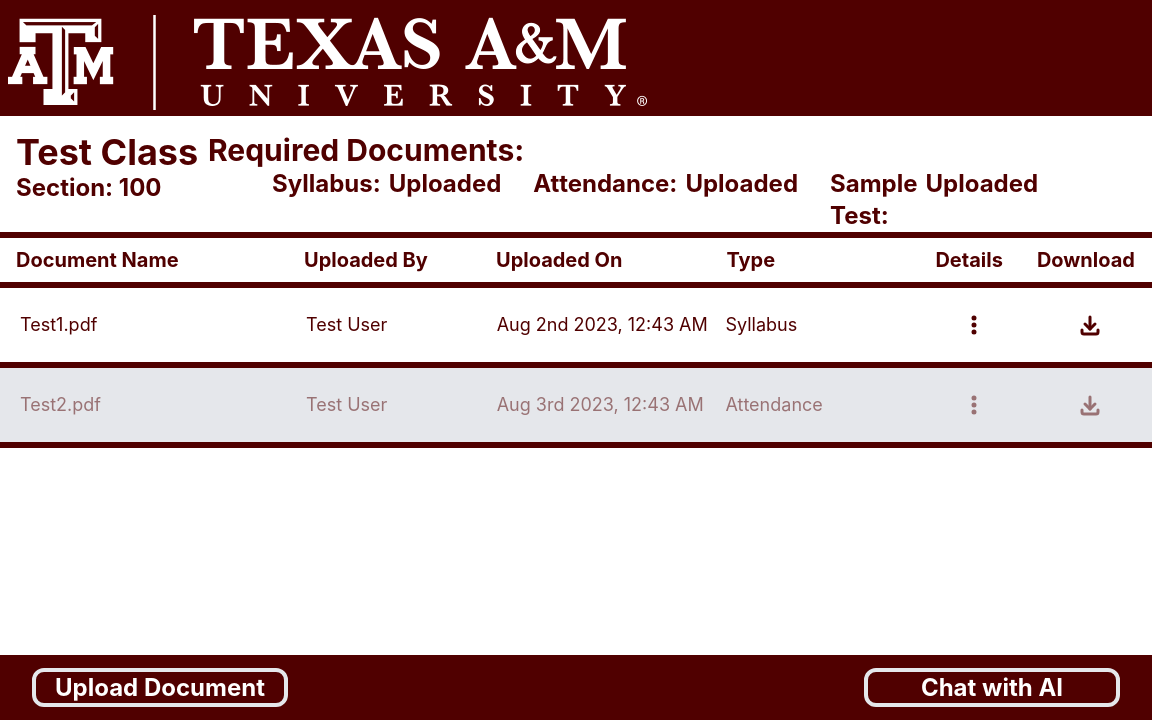
Class Component › opens and closes document details
The image size is (1152, 720).
Check: the text "Test1.pdf" is shown, box [20, 314, 97, 335]
Click the 1st button with test id "details".
click(974, 325)  # box [962, 313, 986, 337]
(page scrolled)
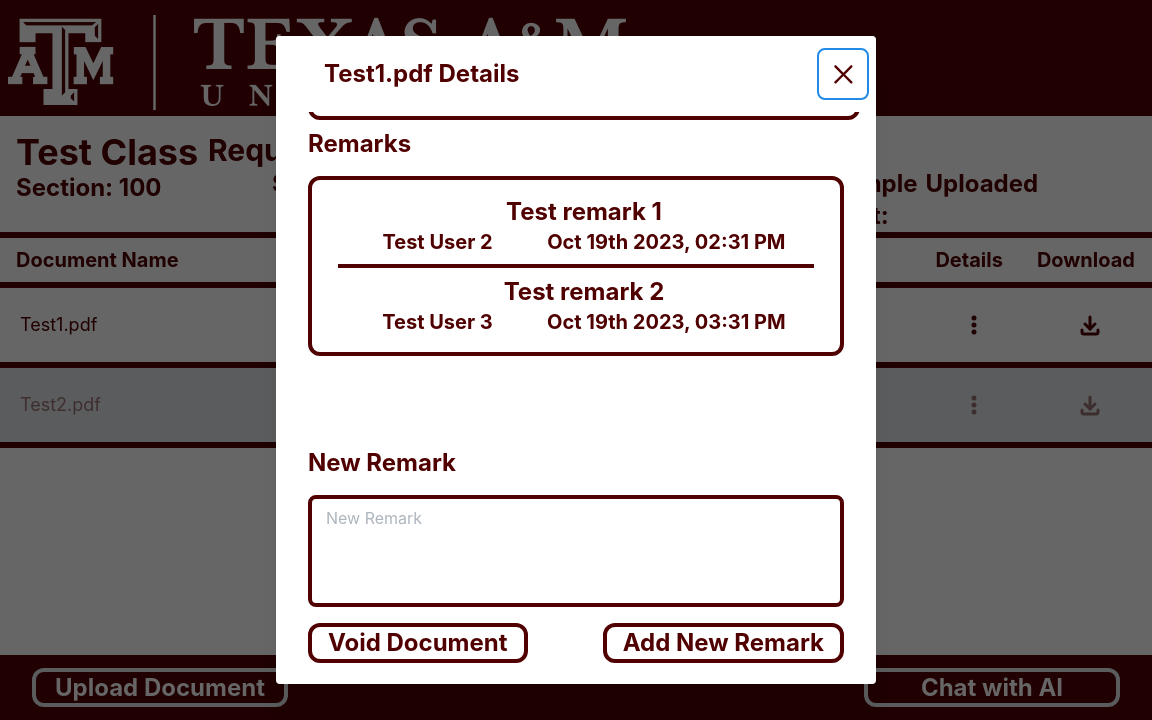
Check: the dialog with test id "documentDetailsContent" is shown, box [276, 36, 876, 684]
Click the button with test id "voidDocumentButton".
click(418, 643)  # box [308, 623, 528, 663]
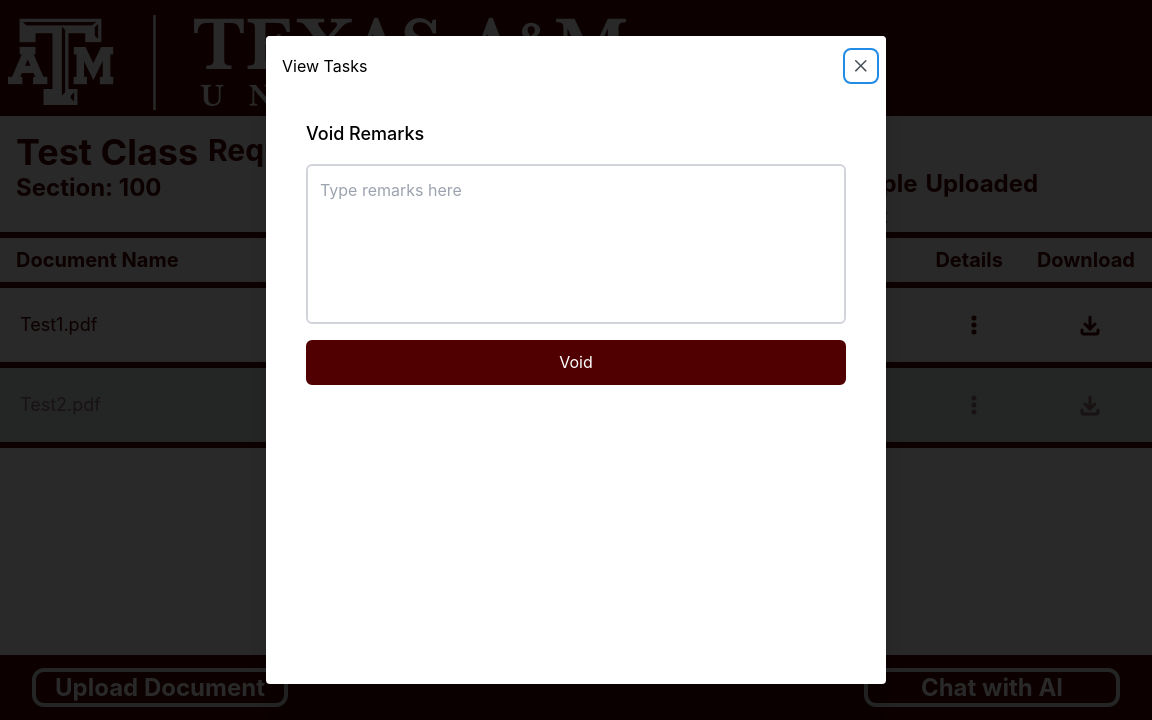
Check: the dialog with test id "voidDocumentContent" is shown, box [266, 36, 886, 684]
Click the button with test id "voidCloseButton".
click(861, 66)  # box [847, 52, 875, 80]
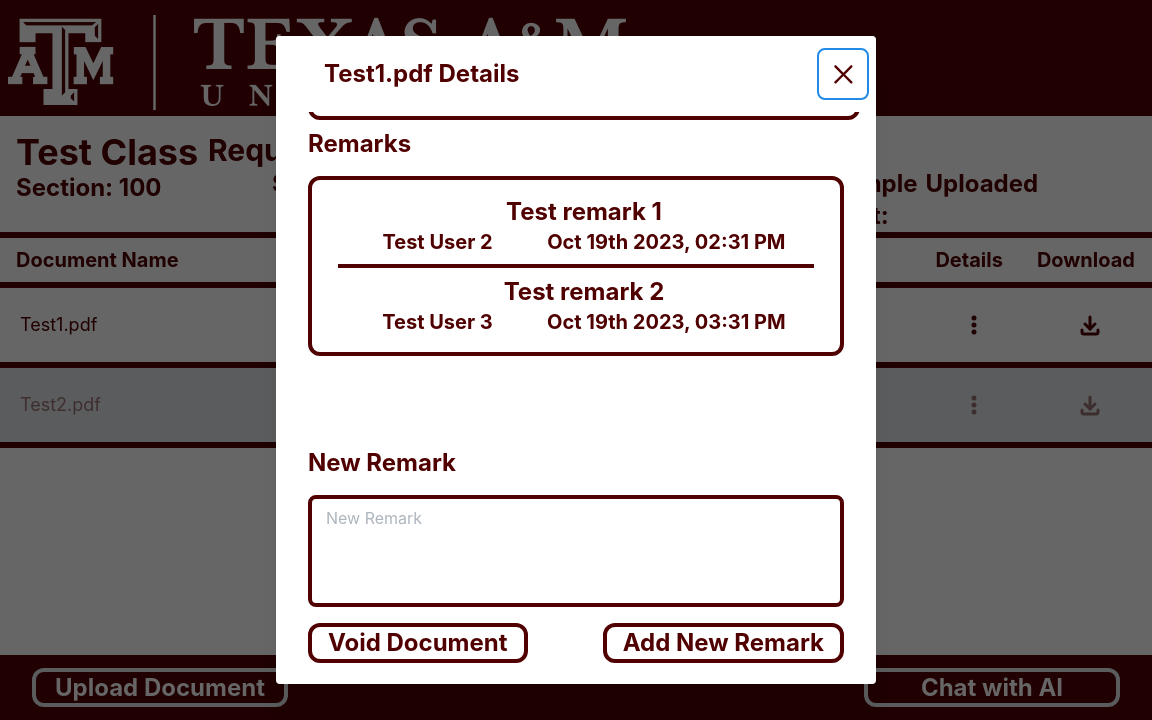
Check: the dialog with test id "voidDocumentContent" is gone
Click the button with test id "closeButton".
click(843, 74)  # box [821, 52, 865, 96]
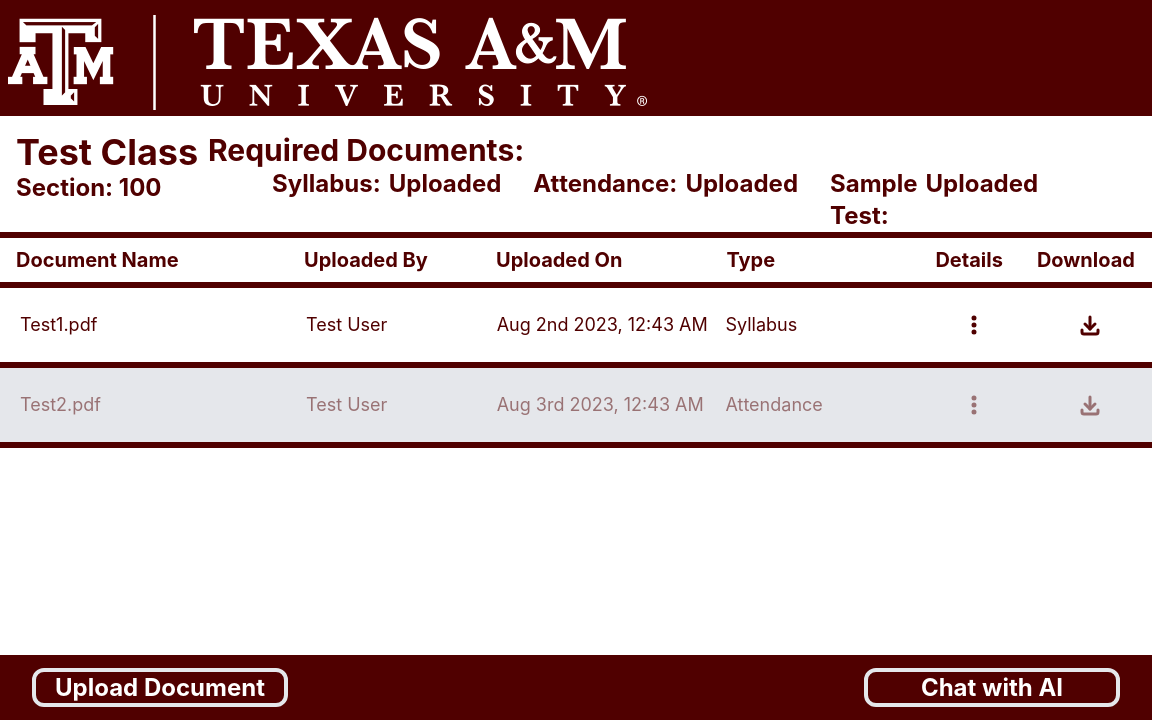
Check: the dialog with test id "documentDetailsContent" is gone
